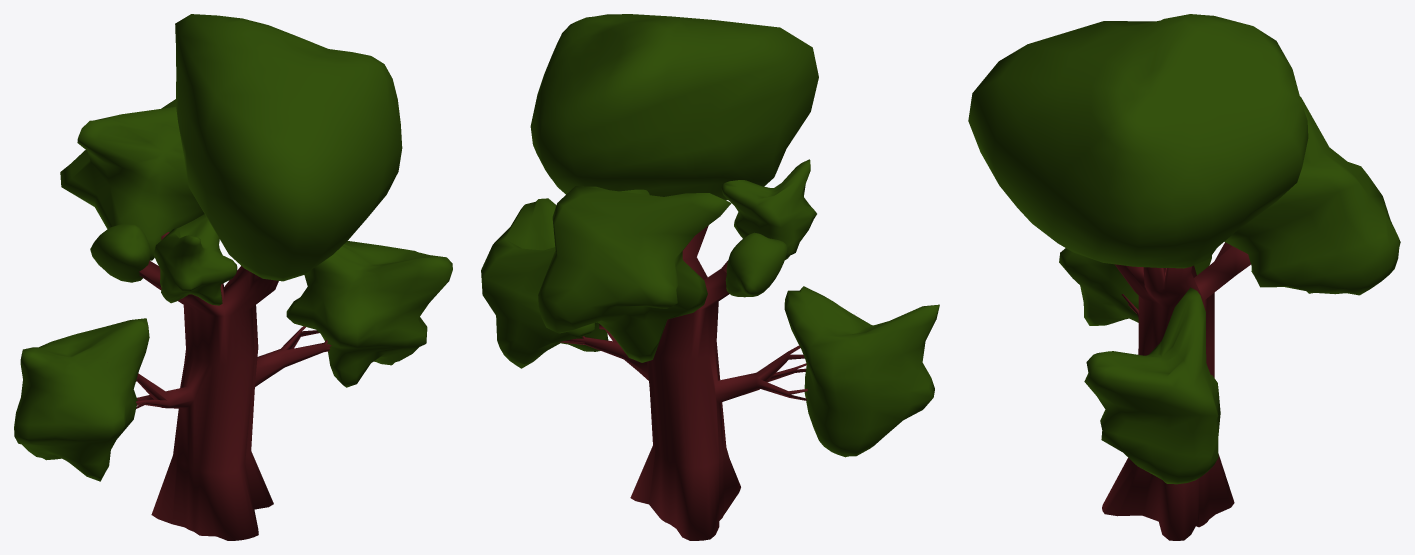
The model's file is tree.glb.
3 views of the same model, side by side, from view 1: azimuth 30°, elevation 25°; view 2: azimuth 150°, elevation 25°; view 3: azimuth 270°, elevation 25° (orthographic). The views are drawn at different scales.
Parts seen in each view (by area): view 1: Sphere.003, Cylinder, Sphere.004, Sphere.006, Sphere.001, Sphere, Sphere.002; view 2: Sphere.003, Sphere.001, Cylinder, Sphere.004, Sphere.006, Sphere, Sphere.002; view 3: Sphere.003, Sphere.001, Sphere.006, Cylinder, Sphere.004.
Boxes of the visible parts, x1,y1,x2,y2 form: Sphere.003: (175, 14, 402, 281); Cylinder: (136, 232, 331, 540); Sphere.004: (14, 318, 149, 481); Sphere.006: (286, 241, 452, 387); Sphere.001: (60, 99, 204, 260); Sphere: (153, 214, 237, 305); Sphere.002: (90, 224, 150, 282); Sphere.003: (530, 14, 818, 200); Sphere.001: (538, 186, 731, 362); Cylinder: (559, 225, 807, 540); Sphere.004: (784, 286, 939, 457); Sphere.006: (481, 198, 608, 368); Sphere: (721, 159, 816, 259); Sphere.002: (725, 232, 787, 297); Sphere.003: (968, 14, 1308, 268); Sphere.001: (1224, 96, 1400, 295); Sphere.006: (1084, 287, 1220, 484); Cylinder: (1102, 242, 1250, 540); Sphere.004: (1059, 248, 1211, 325).
Size of the model in its own units: 13.55 by 14.9 by 11.37.
